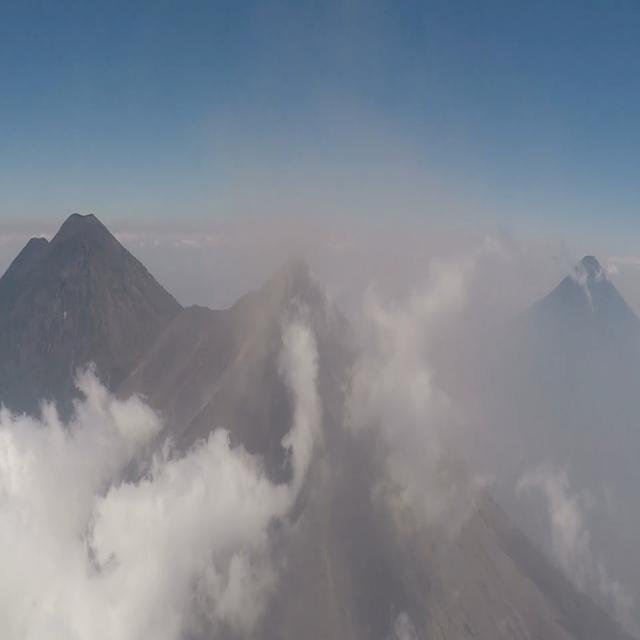Summit: (224, 235, 357, 330)
